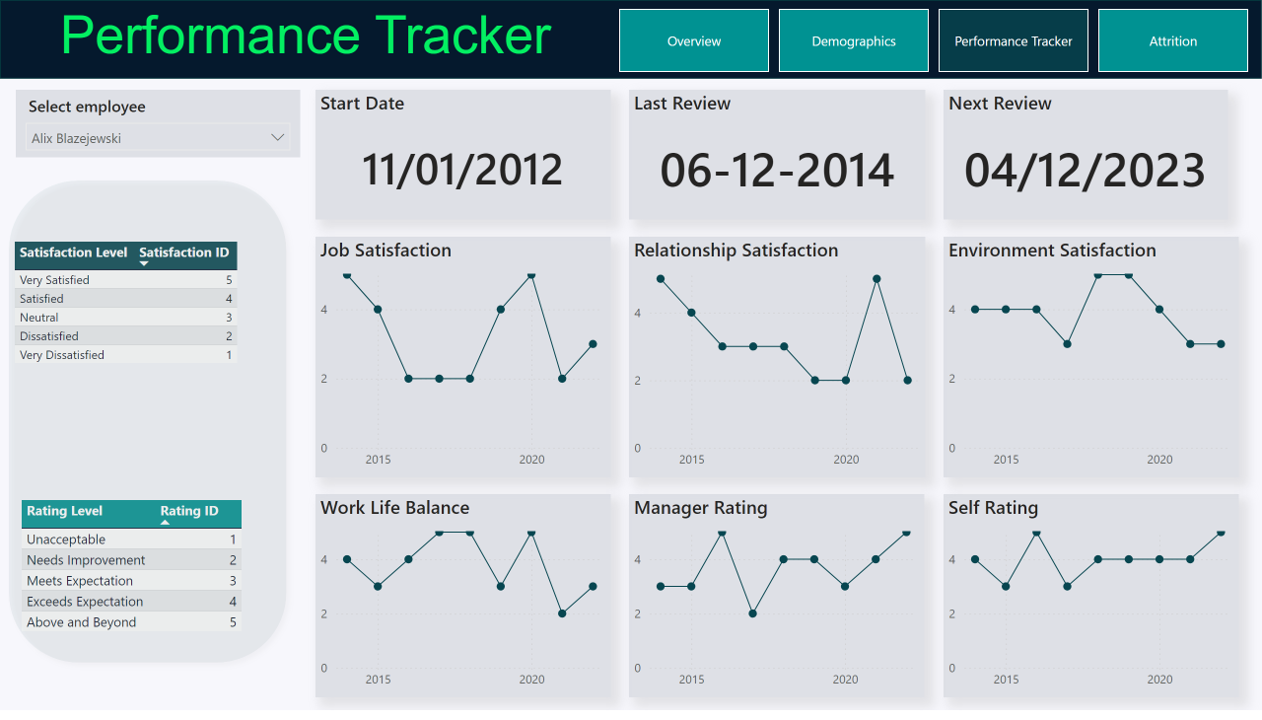

Layout of this report page (visuals, bound fields, positions):
{"tool":"powerbi","page":{"name":"Performance Tracker","canvas":[1280,720],"ordinal":2},"visuals":[{"type":"shape","box":[0,0,1279.8,79.8],"z":0},{"type":"textbox","box":[0,0,619.6,79.8],"z":1000},{"type":"pageNavigator","box":[628.2,8.6,640,64],"z":2000},{"type":"slicer","fields":{"Values":["DimEmployee.FullName"]},"box":[16,90.8,288.3,68.7],"z":3000},{"type":"card","title":"Start Date","fields":{"Values":["Min(DimEmployee.HireDate)"]},"box":[320.2,90.8,299.4,131.3],"z":4000},{"type":"card","title":"Last Review","fields":{"Values":["Min(FactPerformanceRating.ReviewDate)"]},"box":[638,90.8,300.6,131.3],"z":5000},{"type":"card","title":"Next Review","fields":{"Values":["DimDate.NextReviewDate"]},"box":[957.1,90.8,288.3,131.3],"z":6000},{"type":"lineChart","title":"Job Satisfaction","fields":{"Category":["DimDate.Year"],"Y":["DimDate.JobSatisfaction"]},"box":[320,240,299.4,244.2],"z":7000},{"type":"lineChart","title":"Relationship Satisfaction","fields":{"Category":["DimDate.Year"],"Y":["DimDate.RelationshipSatisfaction"]},"box":[637.8,240,300.6,244.2],"z":8000},{"type":"lineChart","title":"Self Rating","fields":{"Category":["DimDate.Year"],"Y":["DimDate.SelfRating"]},"box":[956.8,501.4,299.4,206.1],"z":9000},{"type":"lineChart","title":"Work Life Balance","fields":{"Category":["DimDate.Year"],"Y":["DimDate.WorkLifeBalance"]},"box":[320,501.4,299.4,206.1],"z":10000},{"type":"lineChart","title":"Manager Rating","fields":{"Category":["DimDate.Year"],"Y":["DimDate.ManagerRating"]},"box":[637.8,501.4,299.4,206.1],"z":11000},{"type":"lineChart","title":"Environment Satisfaction","fields":{"Category":["DimDate.Date.Variation.Date Hierarchy.Year"],"Y":["DimDate.EnvironmentSatisfaction"]},"box":[957.1,240.5,299.4,244.2],"z":12000},{"type":"tableEx","fields":{"Values":["DimRatingLevel.RatingLevel","DimRatingLevel.RatingID"]},"box":[16,501.8,317.8,144.8],"z":13000},{"type":"tableEx","fields":{"Values":["DimSatisfiedLevel.SatisfactionLevel","DimSatisfiedLevel.SatisfactionID"]},"box":[8.6,240.5,311.7,139.9],"z":14000},{"type":"shape","box":[0,174.2,299.4,506.8],"z":15000}]}

Visuals, with their boxes in screenshot pixels (x1, y1, x2, y2), scaled from the page's 1280x720 canvas onto the 1262x720 screenshot:
shape: (0, 0, 1261, 80)
textbox: (0, 0, 611, 80)
pageNavigator: (619, 9, 1250, 73)
slicer - DimEmployee.FullName: (16, 91, 300, 160)
"Start Date" card: (316, 91, 611, 222)
"Last Review" card: (629, 91, 925, 222)
"Next Review" card: (944, 91, 1228, 222)
"Job Satisfaction" lineChart: (316, 240, 611, 484)
"Relationship Satisfaction" lineChart: (629, 240, 925, 484)
"Self Rating" lineChart: (943, 501, 1239, 708)
"Work Life Balance" lineChart: (316, 501, 611, 708)
"Manager Rating" lineChart: (629, 501, 924, 708)
"Environment Satisfaction" lineChart: (944, 240, 1239, 485)
tableEx - DimRatingLevel.RatingLevel x DimRatingLevel.RatingID: (16, 502, 329, 647)
tableEx - DimSatisfiedLevel.SatisfactionLevel x DimSatisfiedLevel.SatisfactionID: (8, 240, 316, 380)
shape: (0, 174, 295, 681)
